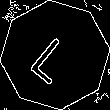L_NE: (27, 26, 83, 84)
